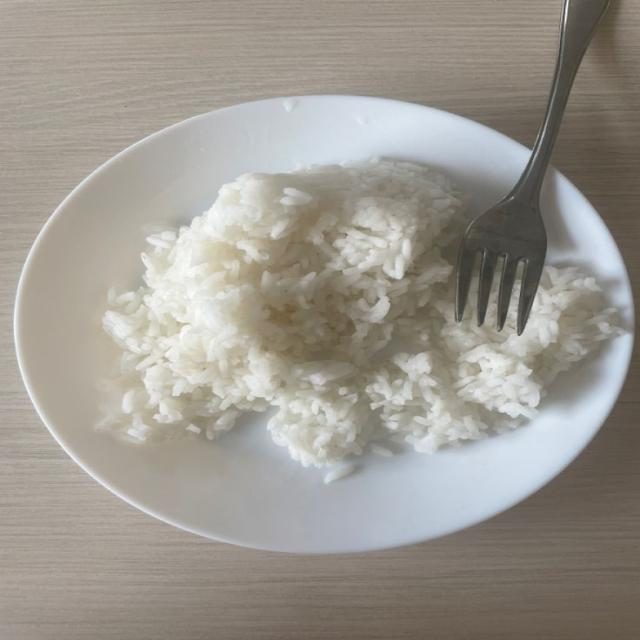rice: (104, 160, 618, 466), (324, 465, 355, 484), (370, 443, 393, 456)
